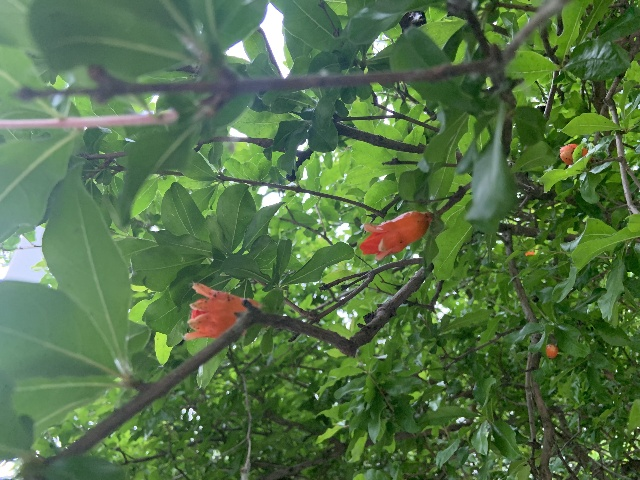bud: (559, 143, 591, 165), (546, 343, 558, 358)
flower: (184, 282, 262, 340), (359, 211, 431, 260)
